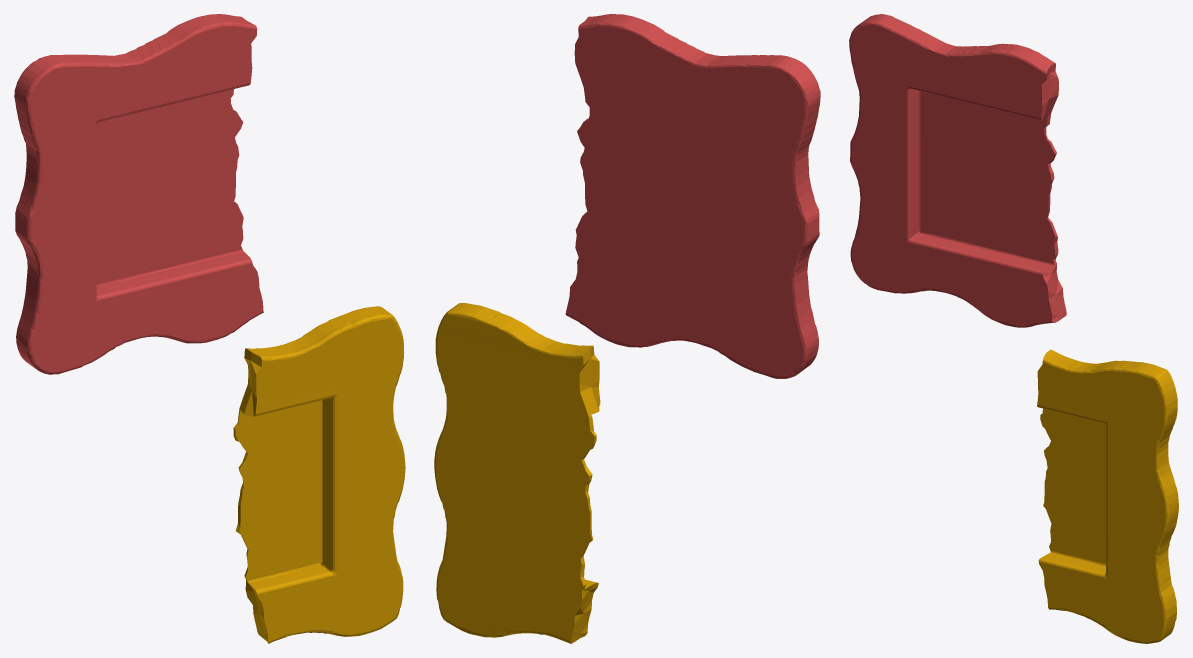
The model's file is fractured_70_2pcs_transformed.glb.
3 views of the same model, side by side, from view 1: azimuth 30°, elevation 25°; view 2: azimuth 150°, elevation 25°; view 3: azimuth 330°, elevation 25° (orthographic). The views are drawn at different scales.
Visible parts, largest first — view 1: piece_1.obj, piece_0.obj; view 2: piece_1.obj, piece_0.obj; view 3: piece_1.obj, piece_0.obj.
Part boxes in pixels (x1,y1,x2,y2): piece_1.obj: (14, 14, 263, 374); piece_0.obj: (233, 306, 405, 643); piece_1.obj: (565, 14, 820, 378); piece_0.obj: (434, 303, 600, 643); piece_1.obj: (849, 14, 1066, 327); piece_0.obj: (1037, 349, 1178, 643).
Size of the model in its own units: 1 by 1.64 by 0.0864.
